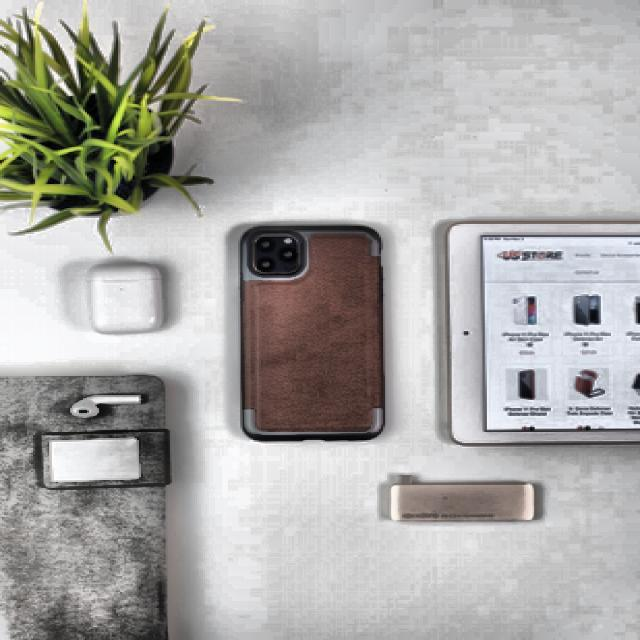Phone: (238, 224, 385, 442)
